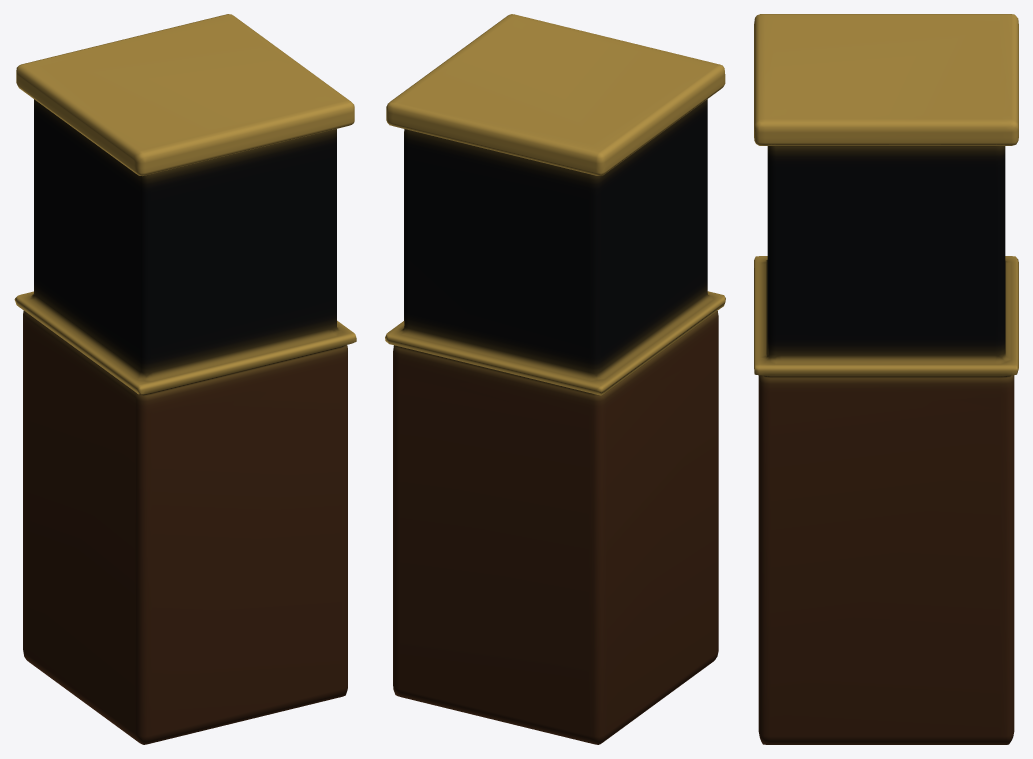
The model's file is lumiere-display-case.glb.
3 views of the same model, side by side, from view 1: azimuth 30°, elevation 25°; view 2: azimuth 150°, elevation 25°; view 3: azimuth 270°, elevation 25° (orthographic). The views are drawn at different scales.
Visible parts, largest first — view 1: lumiere-display-case_LOD0; view 2: lumiere-display-case_LOD0; view 3: lumiere-display-case_LOD0.
Part boxes in pixels (x1,y1,x2,y2): lumiere-display-case_LOD0: (14,14,356,744); lumiere-display-case_LOD0: (385,14,725,744); lumiere-display-case_LOD0: (754,14,1018,744).
Size of what is drawn, in the model's own units: 0.58 by 1.51 by 0.58.
